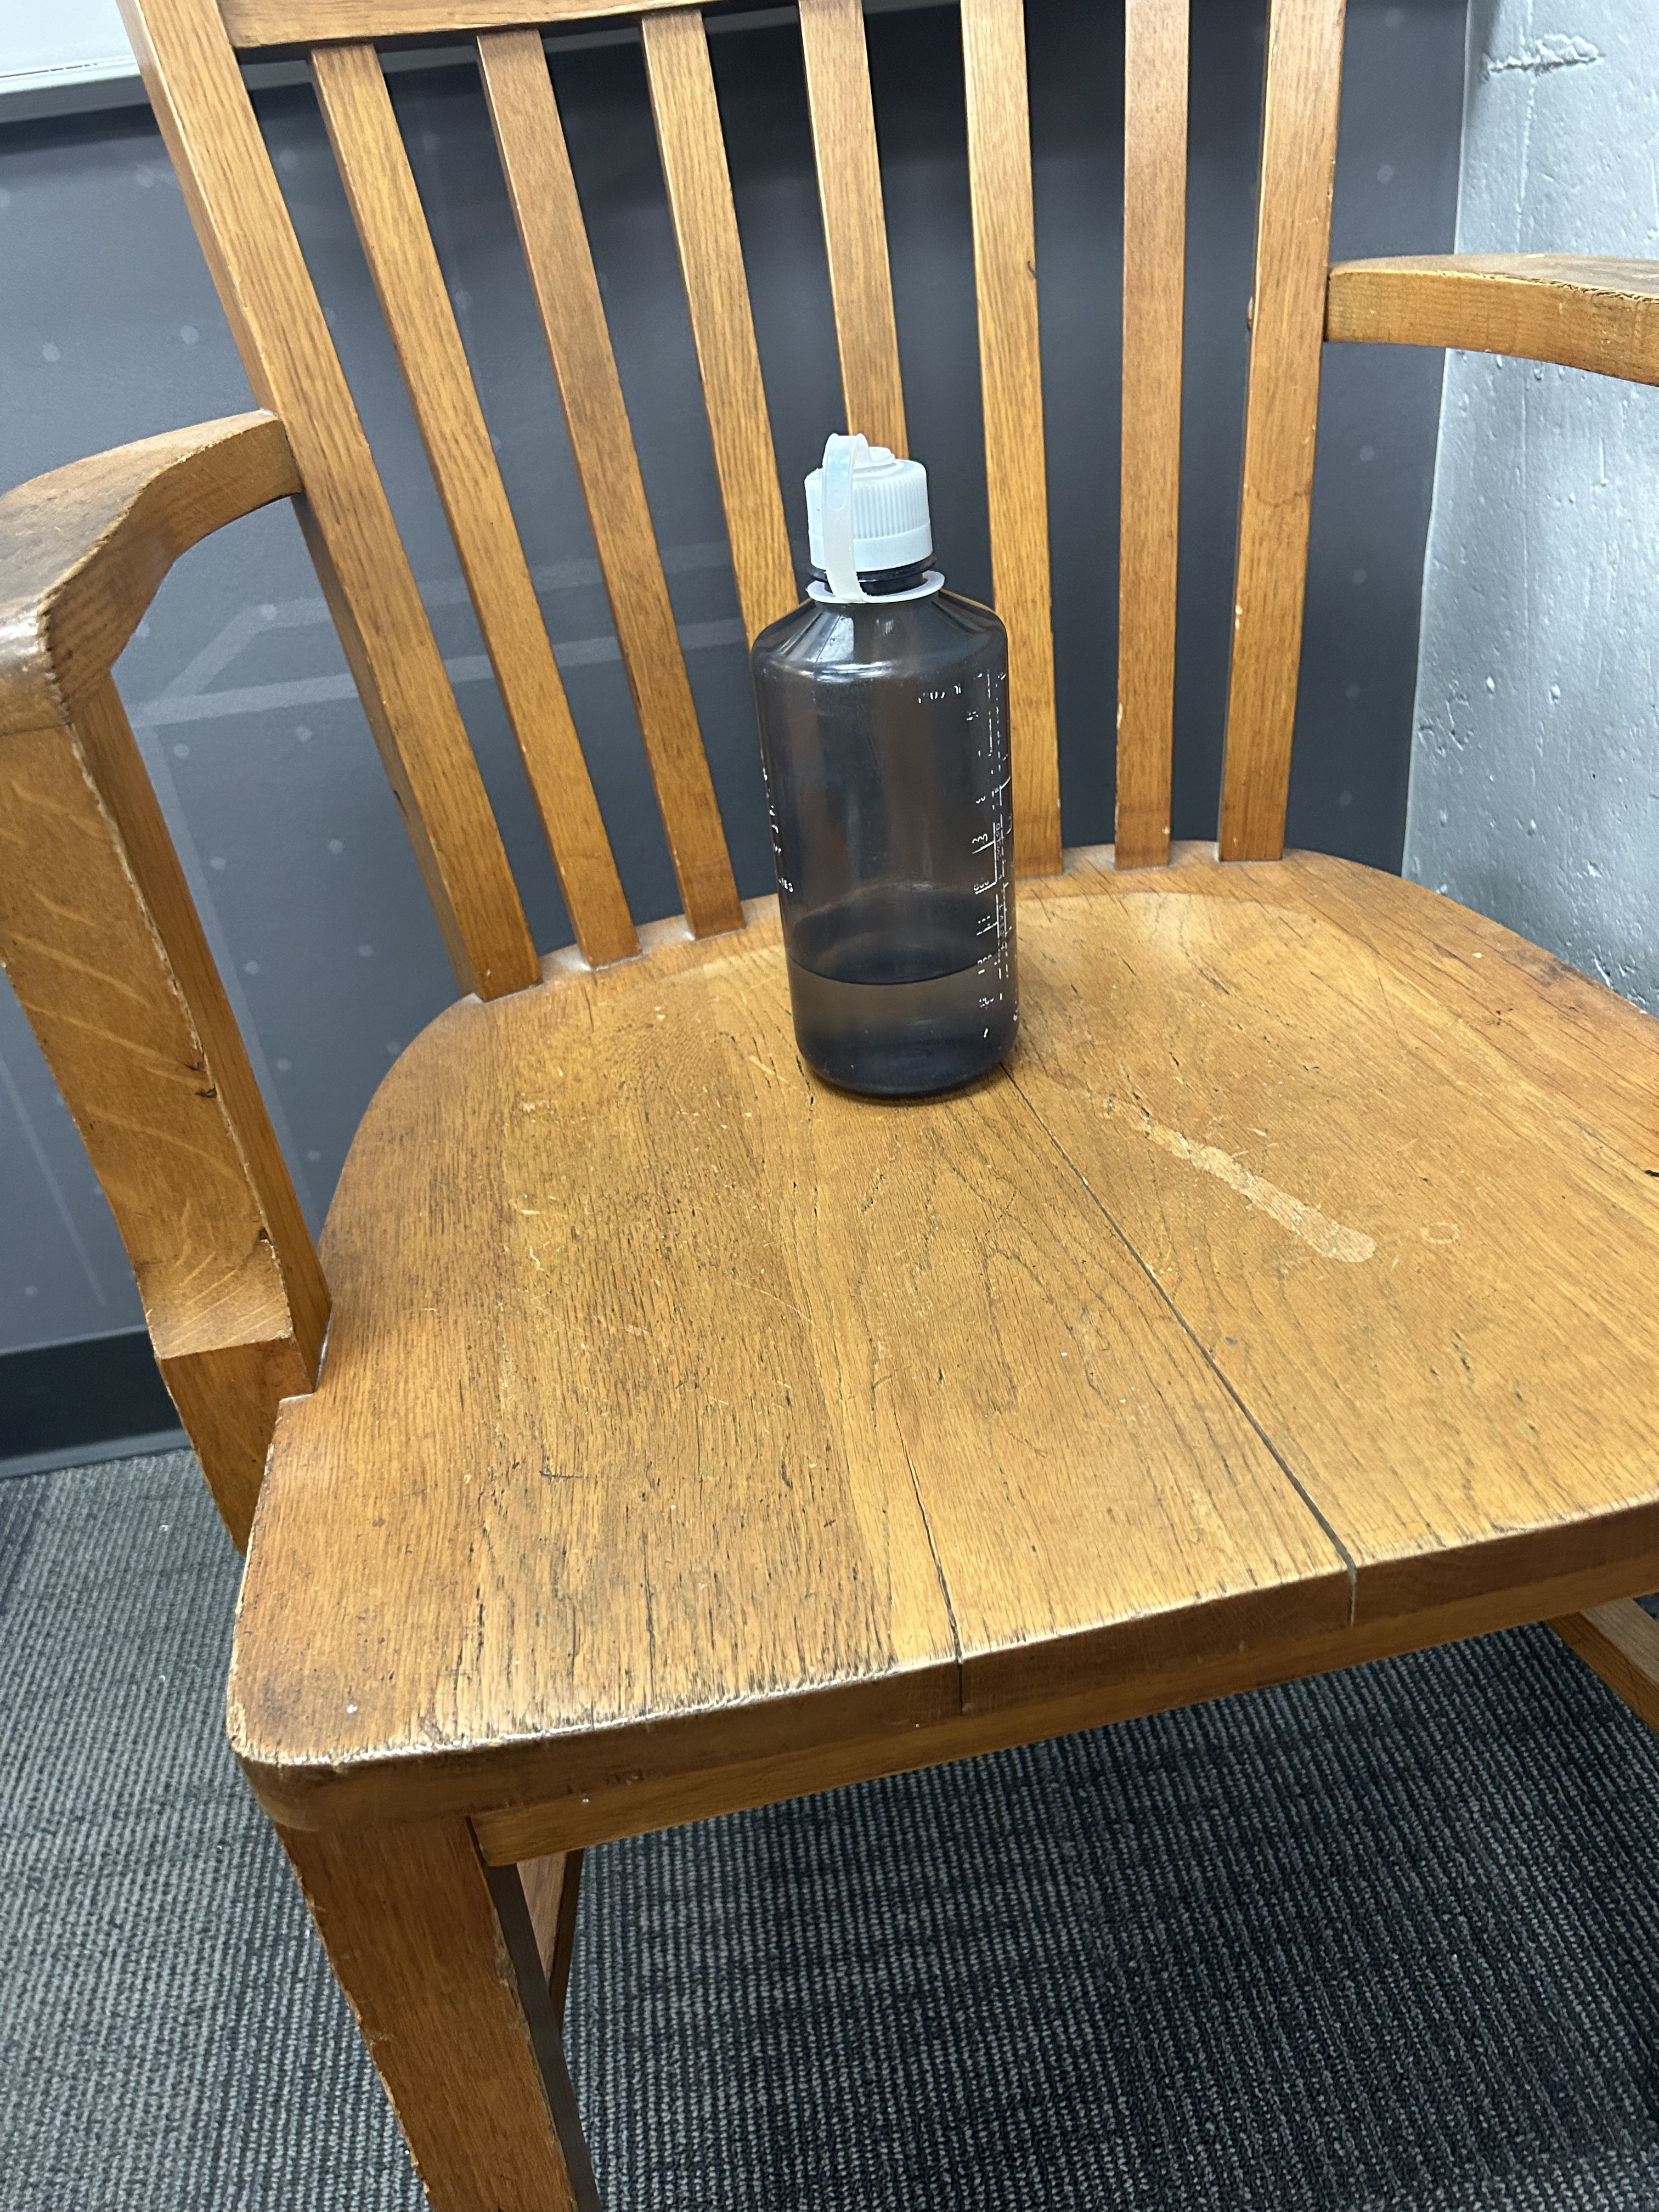bottle: (748, 427, 1025, 1108)
